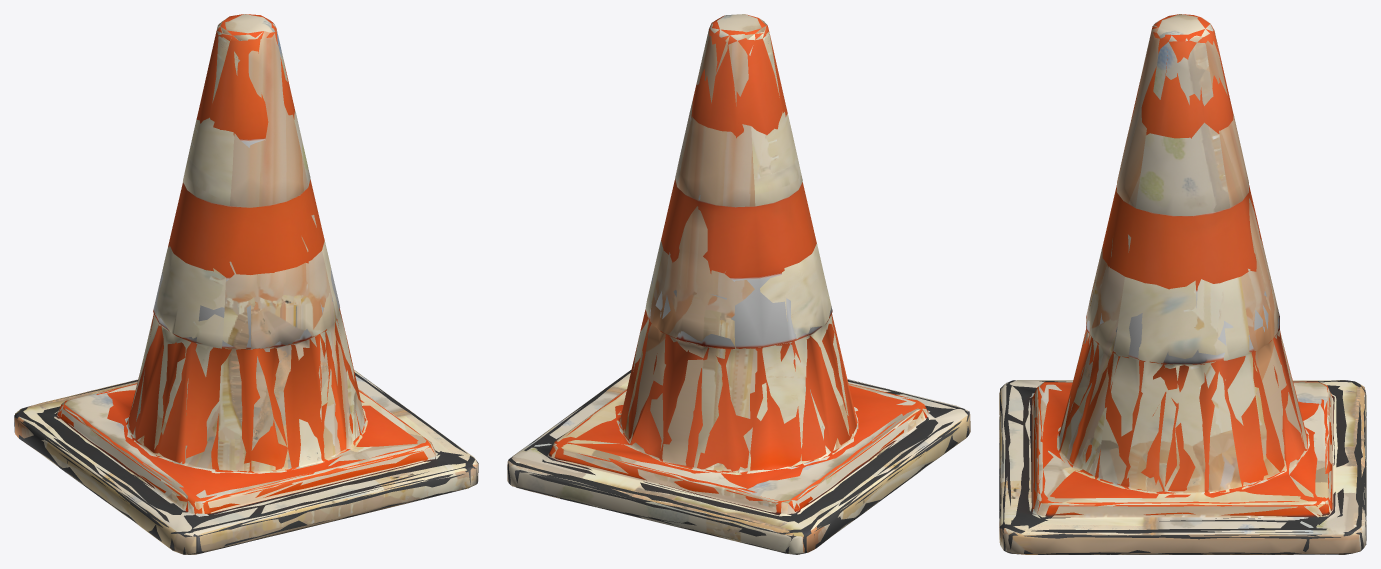
File: duba.fbx
The picture shows the model from 3 angles, left to right: view 1: azimuth 30°, elevation 25°; view 2: azimuth 150°, elevation 25°; view 3: azimuth 270°, elevation 25°; orthographic projection. The views are drawn at different scales.
Visible parts, largest first — view 1: Mesh_0, Mesh_0.001; view 2: Mesh_0, Mesh_0.001; view 3: Mesh_0, Mesh_0.001.
Part boxes in pixels (x1,y1,x2,y2): Mesh_0: (14, 14, 478, 554); Mesh_0.001: (14, 14, 478, 554); Mesh_0: (507, 14, 970, 554); Mesh_0.001: (507, 14, 969, 554); Mesh_0: (999, 14, 1366, 554); Mesh_0.001: (999, 14, 1366, 554).
Size of the model in its own units: 140 by 191 by 140.
